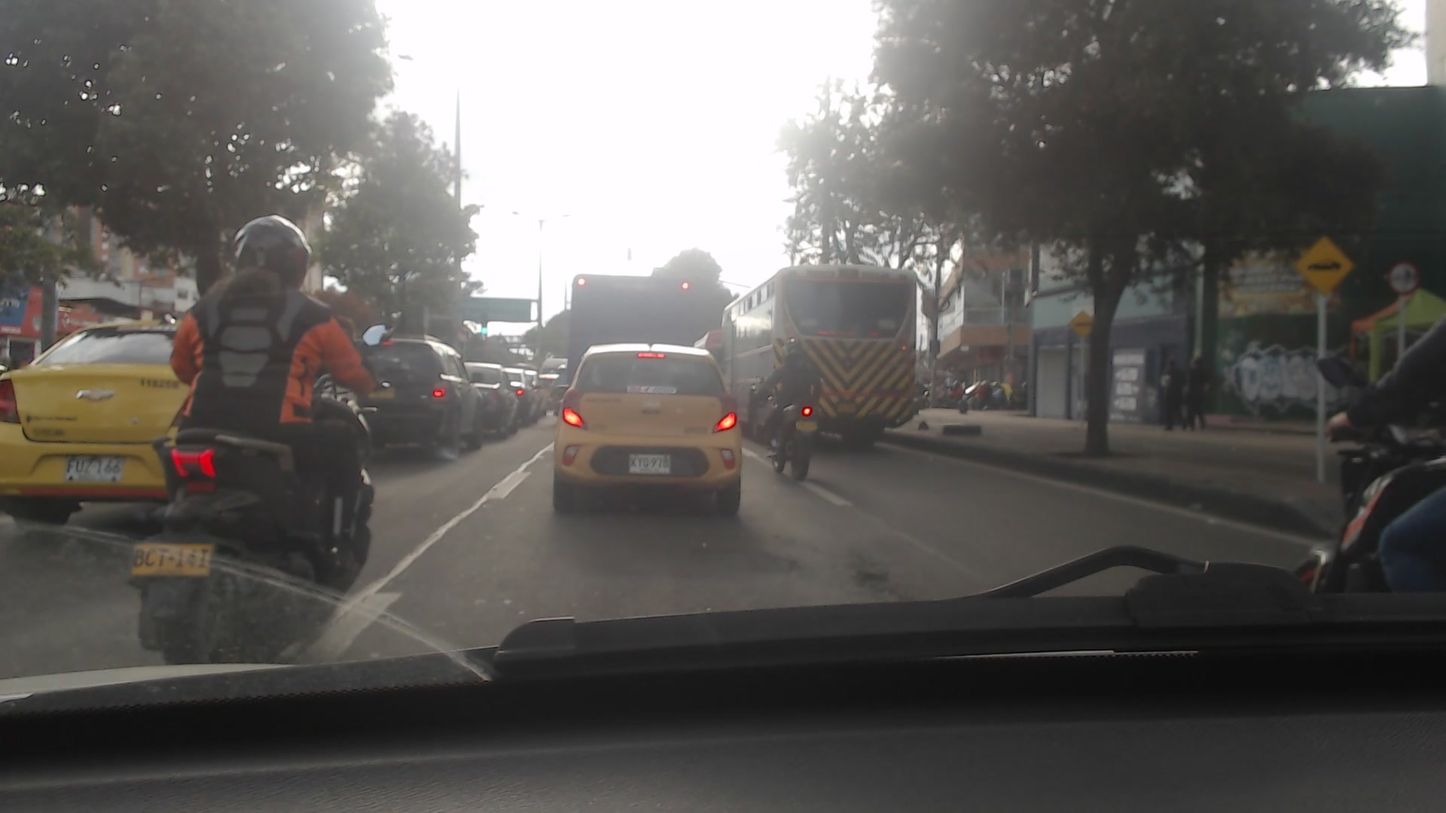bus: (721, 261, 924, 447)
car: (0, 319, 192, 525), (548, 341, 747, 515), (333, 333, 485, 444), (449, 360, 520, 437)
motorcycle: (127, 394, 386, 667), (754, 384, 819, 479)
person: (185, 214, 362, 592), (754, 337, 833, 408), (1183, 354, 1219, 431), (1158, 357, 1192, 432)
truck: (566, 265, 709, 347)
